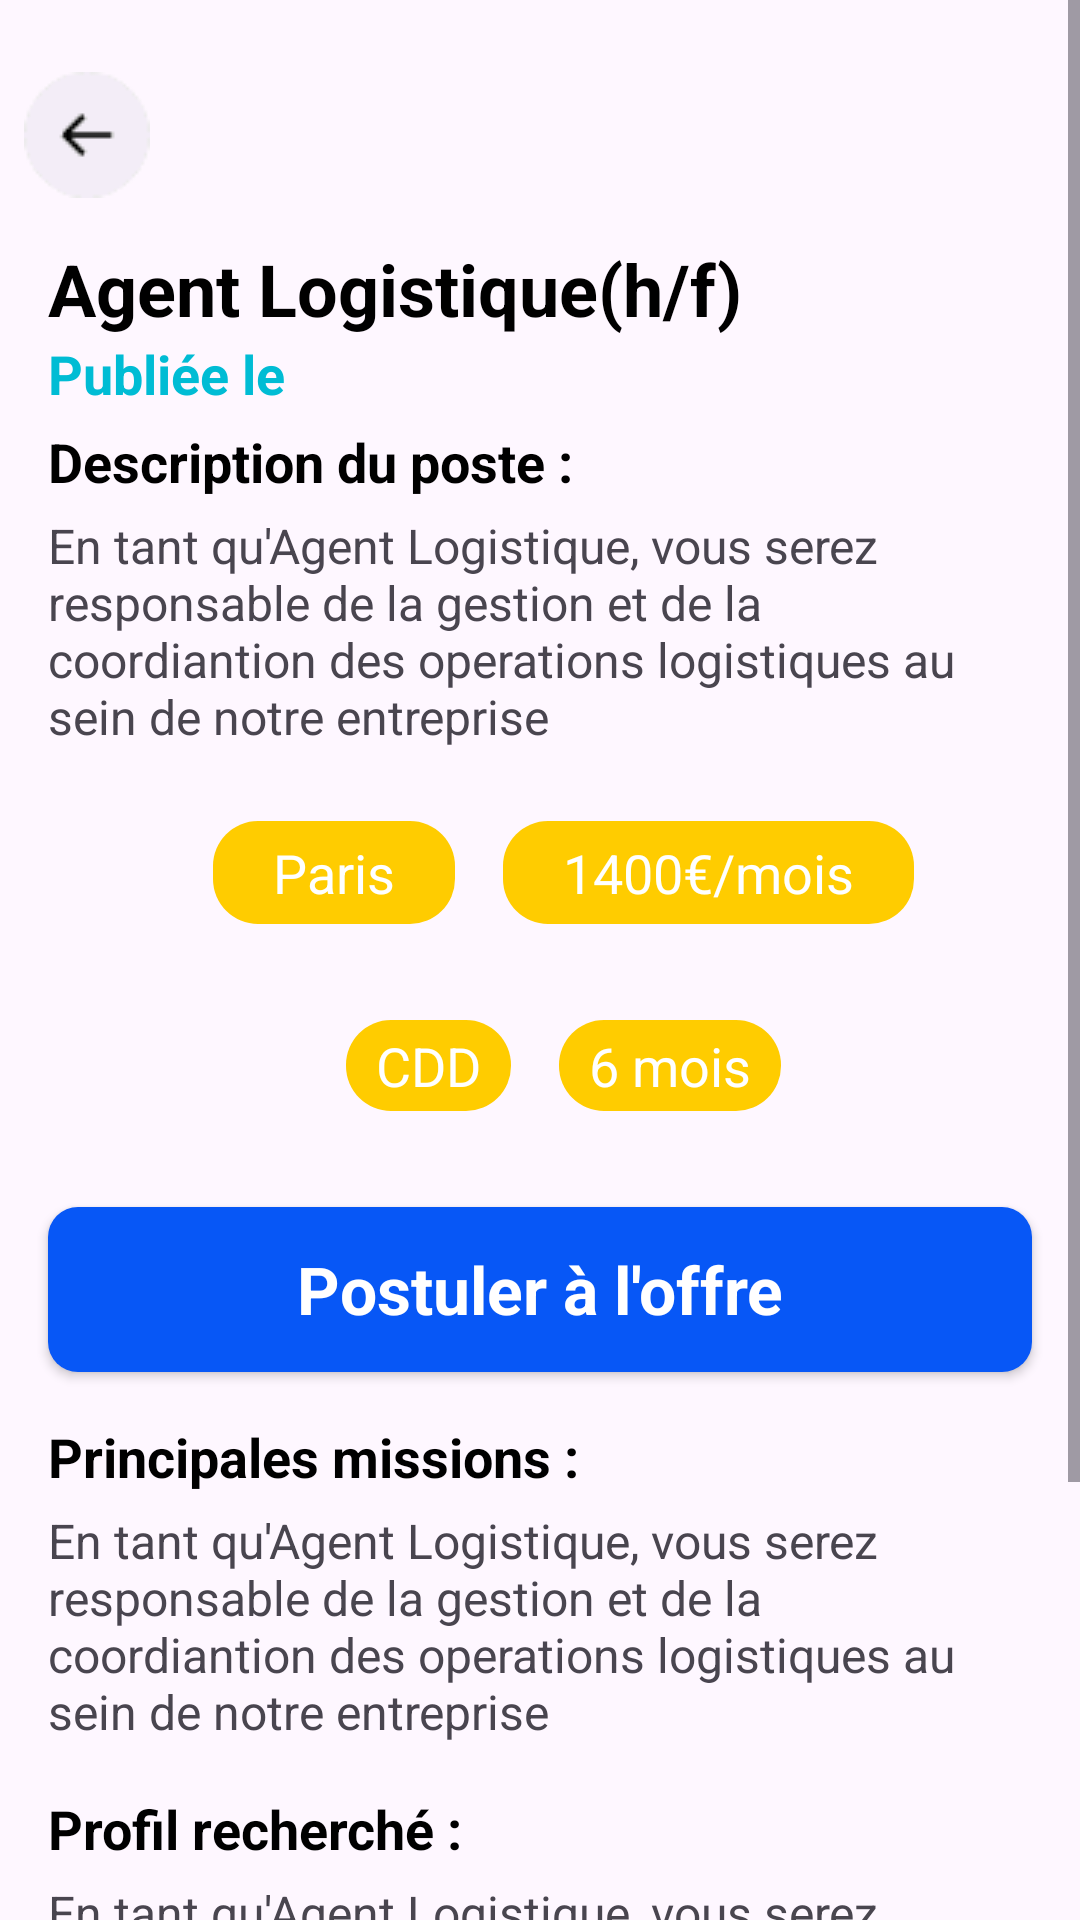

Icon click points for this 1080w x 1920h phone screenshot, format [x,y]:
back: [87,135]
